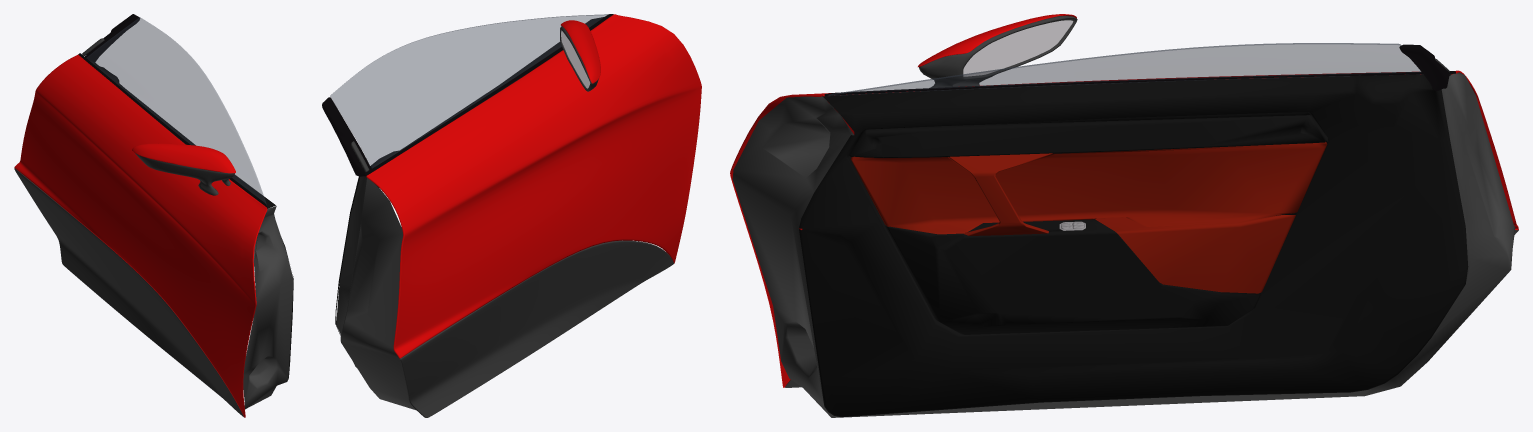
3 views of the same model, side by side, from view 1: azimuth 30°, elevation 25°; view 2: azimuth 150°, elevation 25°; view 3: azimuth 270°, elevation 25° (orthographic). The views are drawn at different scales.
Parts seen in each view (by area): view 1: BodyDoorRColor1, BodyDoorRWindow, BodyDoorRColor2, InteriorDoorR01, BodyDoorRMirrorColor1, BodyDoorRMirrorColor2, BodyDoorRHandle01, BodyDoorRWindowGasket; view 2: BodyDoorRColor1, BodyDoorRColor2, BodyDoorRWindow, InteriorDoorR01, BodyDoorRMirrorColor1, BodyDoorRHandle01, BodyDoorRWindowGasket, BodyDoorRMirror, BodyDoorRMirrorColor2; view 3: InteriorDoorR01, InteriorDoorR02, InteriorDoorR03, BodyDoorRWindow, InteriorDoorR04, InteriorDoorR05, BodyDoorRMirror, BodyDoorRColor1, BodyDoorRMirrorColor2, BodyDoorRWindowGasket, BodyDoorRMirrorColor1, BodyDoorRHandle01.
Boxes of the visible parts, <box> form: BodyDoorRColor1: <box>14,54,267,417</box>; BodyDoorRWindow: <box>86,17,266,204</box>; BodyDoorRColor2: <box>14,168,243,416</box>; InteriorDoorR01: <box>90,61,293,409</box>; BodyDoorRMirrorColor1: <box>132,143,235,173</box>; BodyDoorRMirrorColor2: <box>135,153,234,195</box>; BodyDoorRHandle01: <box>84,14,139,62</box>; BodyDoorRWindowGasket: <box>78,53,267,207</box>; BodyDoorRColor1: <box>366,14,701,358</box>; BodyDoorRColor2: <box>399,240,673,417</box>; BodyDoorRWindow: <box>330,14,607,168</box>; InteriorDoorR01: <box>335,17,603,409</box>; BodyDoorRMirrorColor1: <box>561,20,600,83</box>; BodyDoorRHandle01: <box>322,97,371,176</box>; BodyDoorRWindowGasket: <box>364,14,613,176</box>; BodyDoorRMirror: <box>561,30,590,88</box>; BodyDoorRMirrorColor2: <box>560,26,598,91</box>; InteriorDoorR01: <box>732,72,1515,417</box>; InteriorDoorR02: <box>849,115,1328,334</box>; InteriorDoorR03: <box>850,142,1327,234</box>; BodyDoorRWindow: <box>828,43,1421,95</box>; InteriorDoorR04: <box>1095,215,1295,293</box>; InteriorDoorR05: <box>948,153,1054,235</box>; BodyDoorRMirror: <box>963,20,1073,76</box>; BodyDoorRColor1: <box>730,70,1518,387</box>; BodyDoorRMirrorColor2: <box>919,16,1077,88</box>; BodyDoorRWindowGasket: <box>824,71,1455,95</box>; BodyDoorRMirrorColor1: <box>918,14,1076,67</box>; BodyDoorRHandle01: <box>1399,44,1449,90</box>.
Size of the model in its own units: 0.4344 by 0.9594 by 1.67.
Materials: 9 (1 with a texture image).
